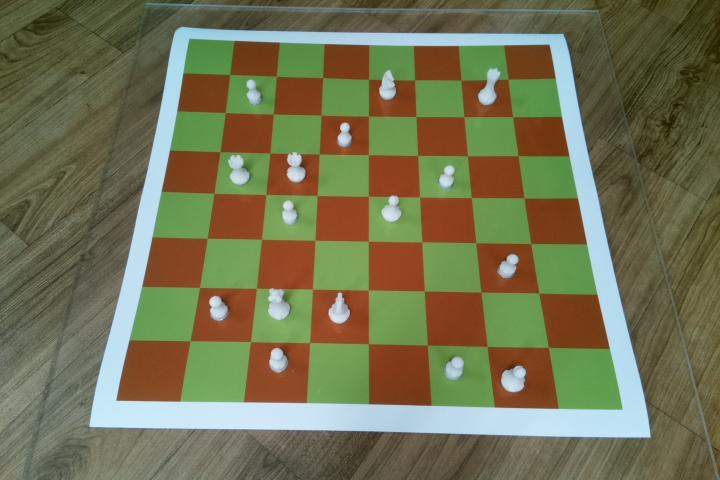chessboard-detect: (116, 37, 624, 411)
